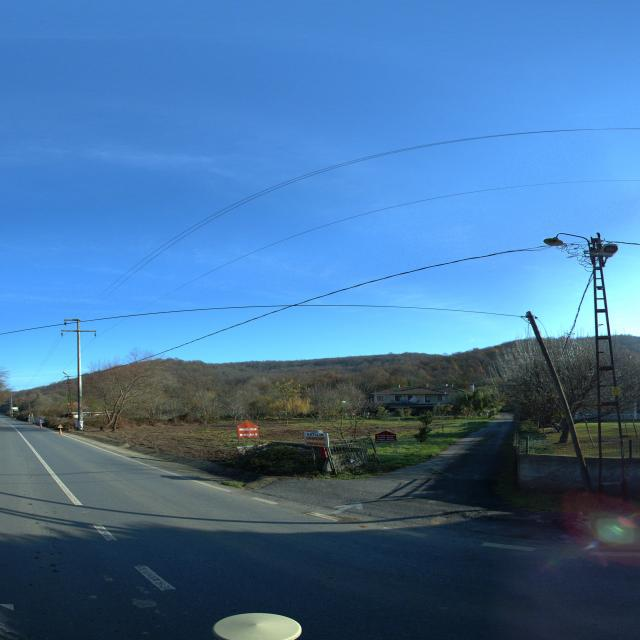Utility Pole Information Plate: (611, 387, 620, 395), (67, 403, 69, 405)
